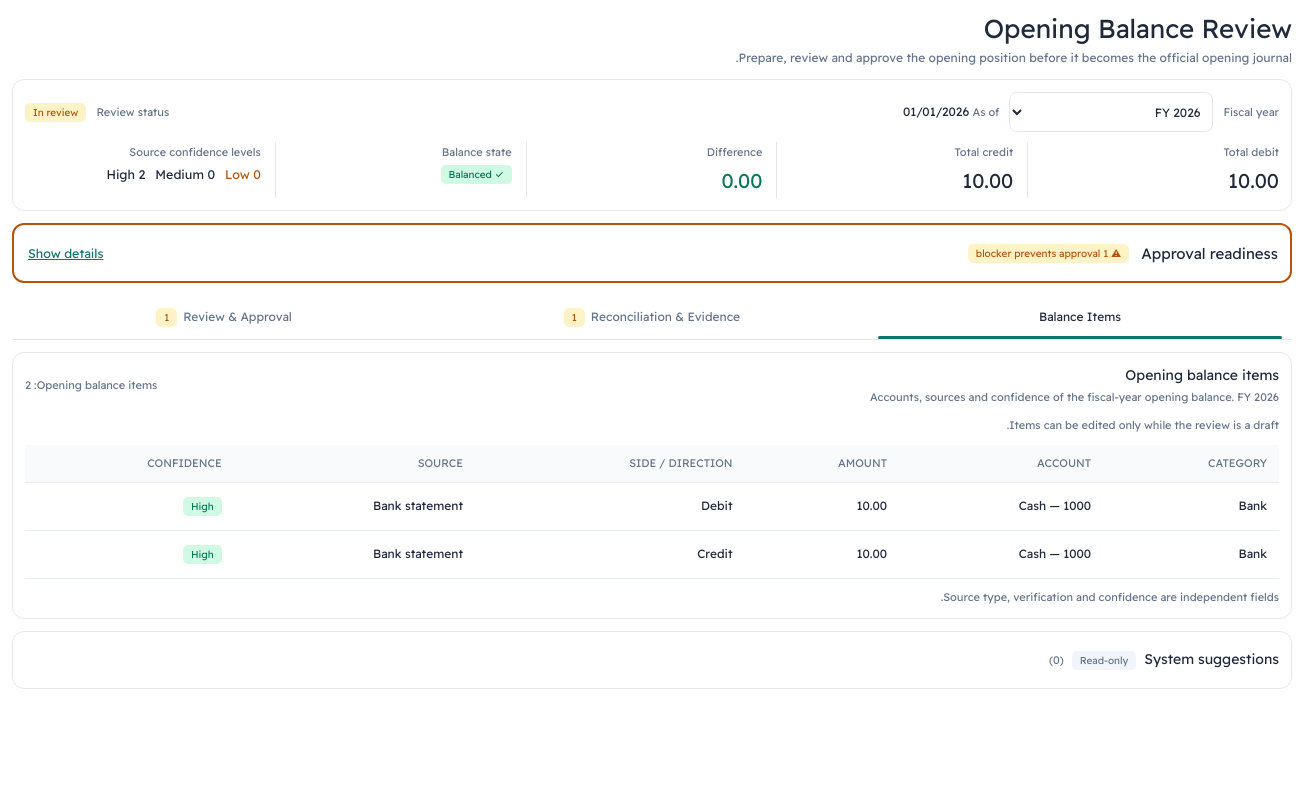
approval gate is unchanged by switching tabs › accepted exception
What coordinates should you click on to do the following:
click the tab "Review & Approval 1"
I would click on:
 (224, 317)
Its box is [12,295,436,339].
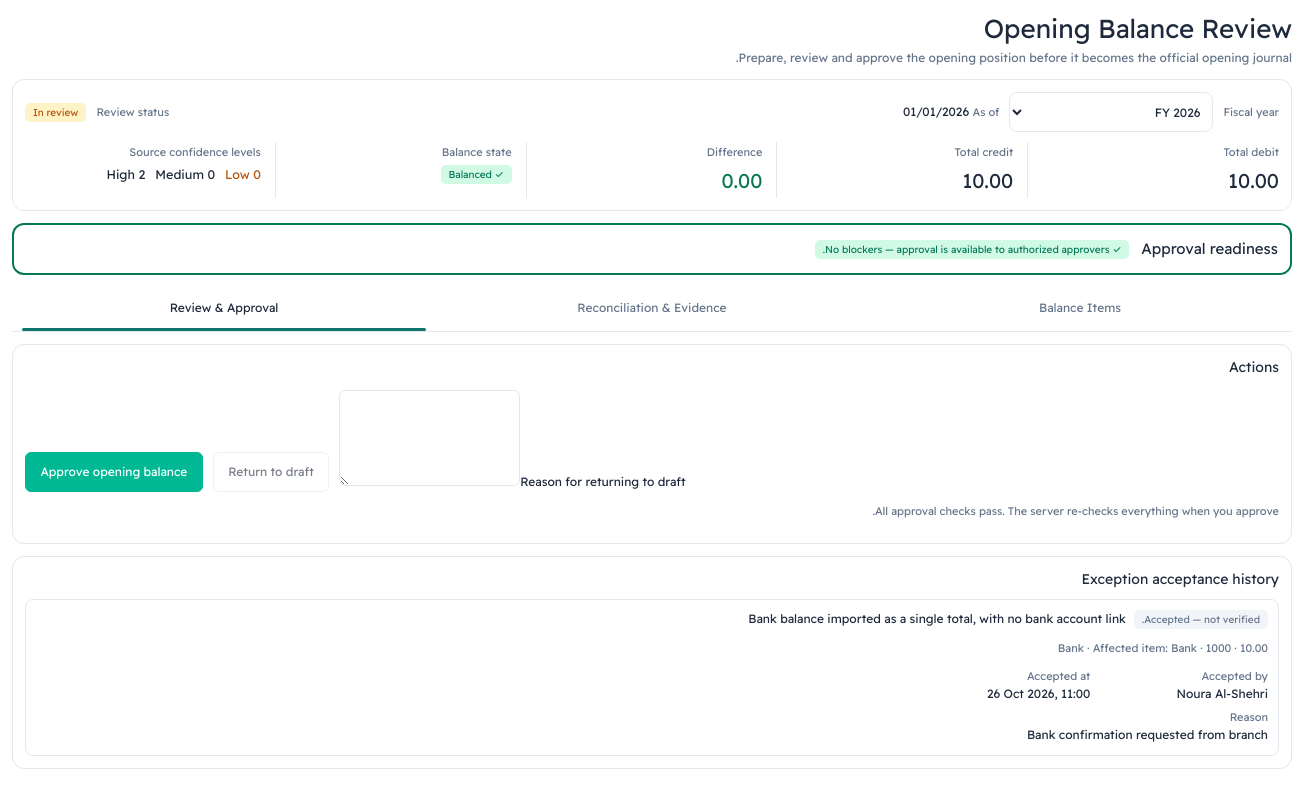
Expected: the button "Approve opening balance" is enabled, [25,452,203,492]
What coordinates should you click on to do the following:
click the tab "Balance Items"
I would click on:
 (1080, 309)
Its box is [868,287,1292,331].
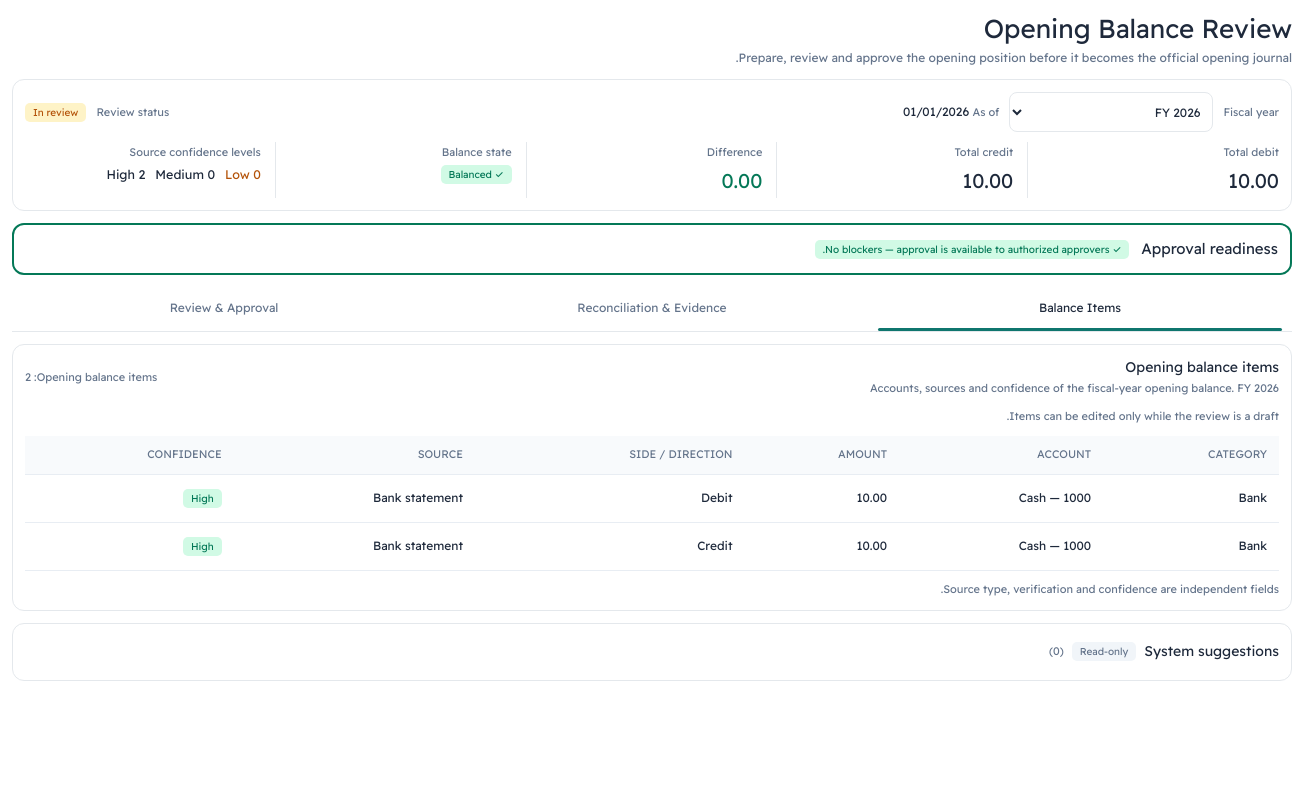
What coordinates should you click on to do the following:
click the tab "Reconciliation & Evidence"
I would click on:
 (652, 309)
Its box is [440,287,864,331].
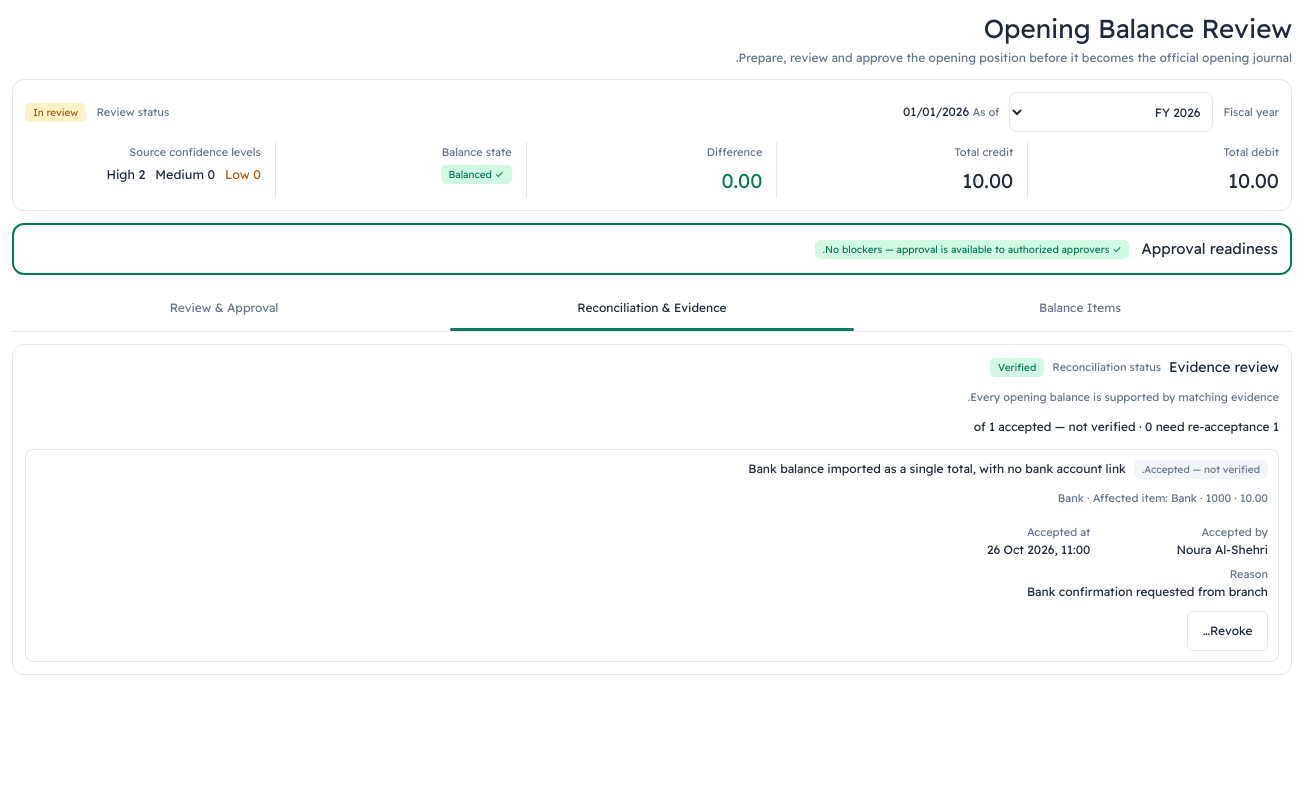
What coordinates should you click on to do the following:
click the tab "Review & Approval"
I would click on:
 (224, 309)
Its box is [12,287,436,331].
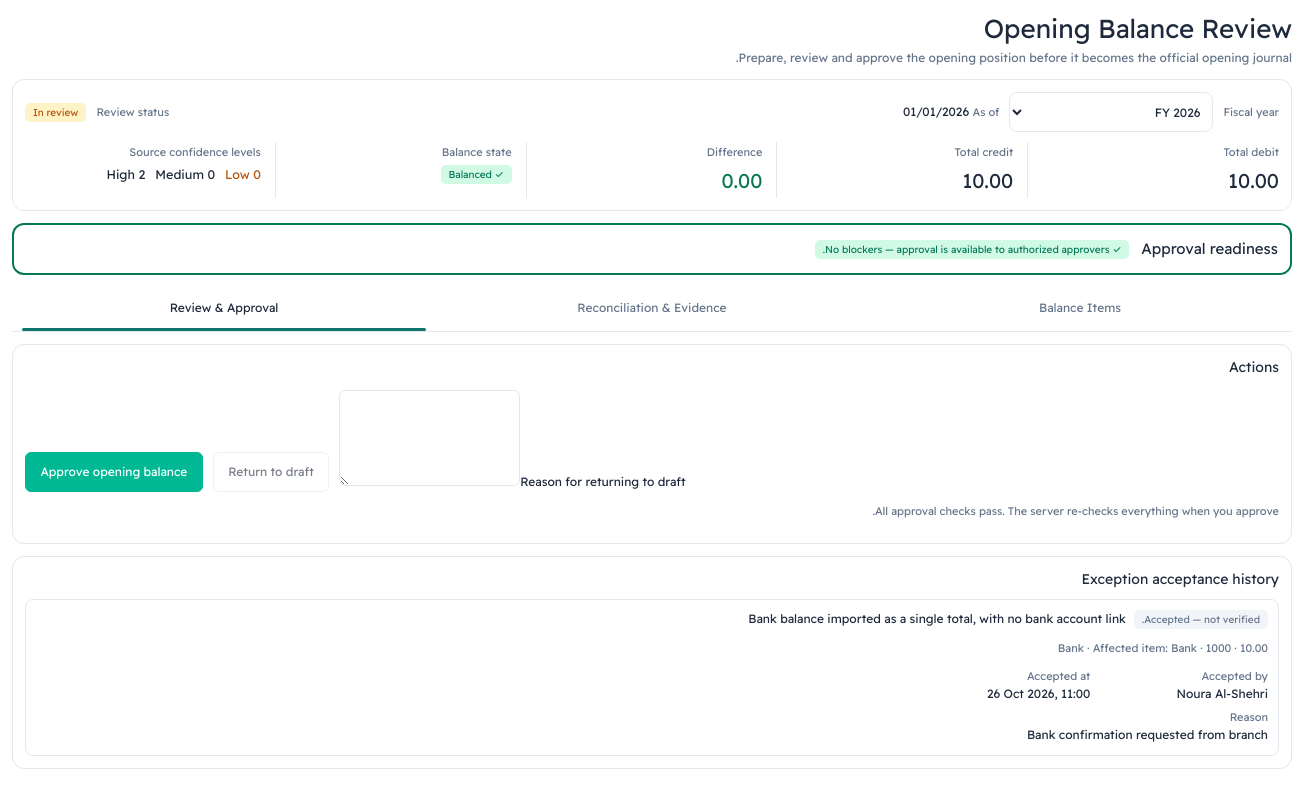
Expected: the button "Approve opening balance" is enabled, [25,452,203,492]
What coordinates should you click on to do the following:
click the tab "Reconciliation & Evidence"
I would click on:
 (652, 309)
Its box is [440,287,864,331].
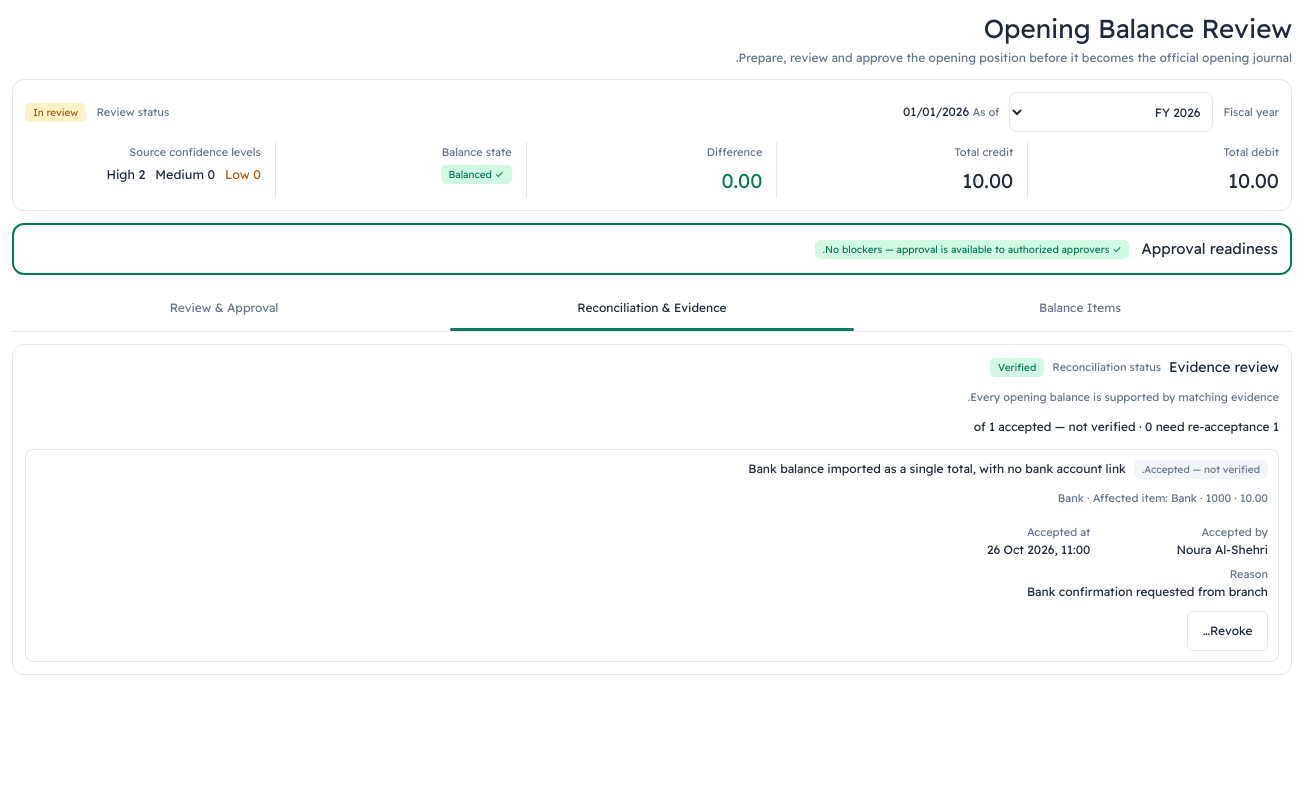
What coordinates should you click on to do the following:
click the tab "Review & Approval"
I would click on:
 (224, 309)
Its box is [12,287,436,331].
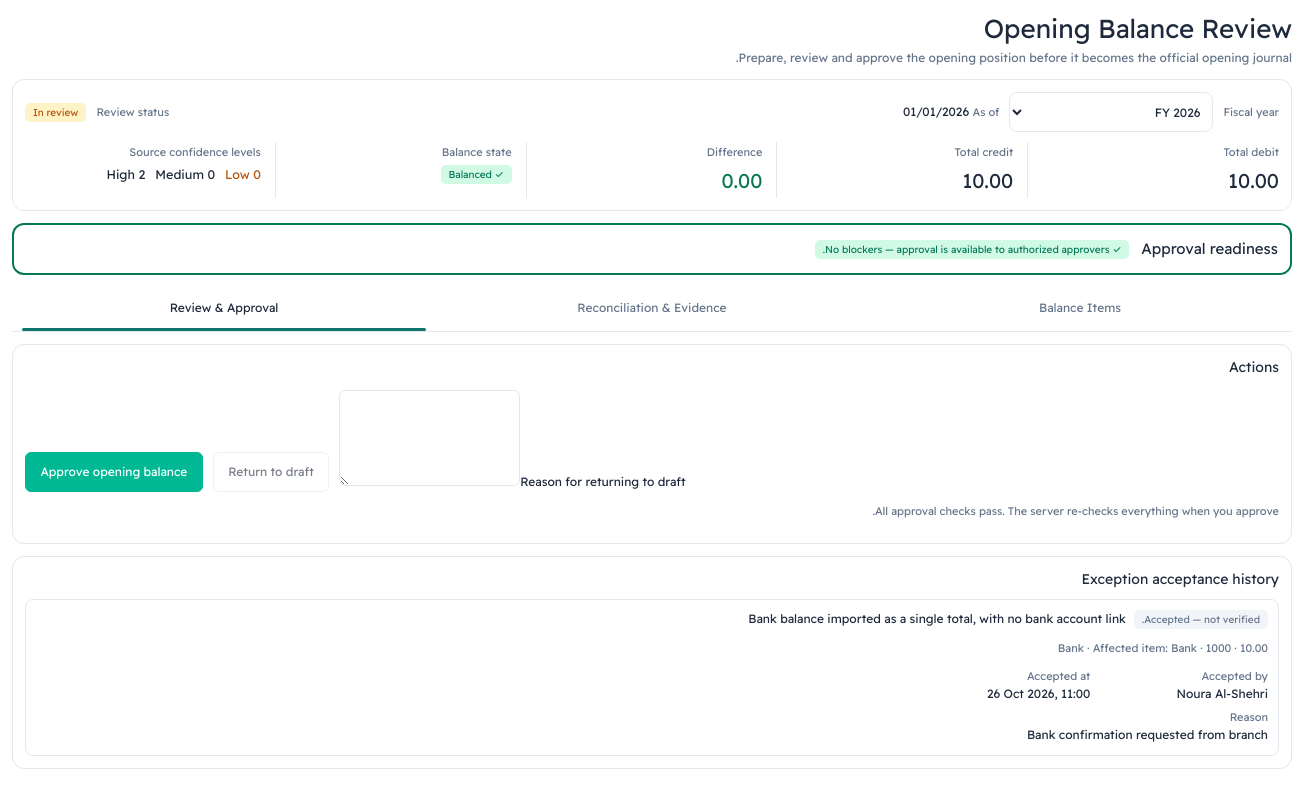
Expected: the button "Approve opening balance" is enabled, [25,452,203,492]
